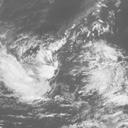cyclone: (3, 45, 56, 103)
